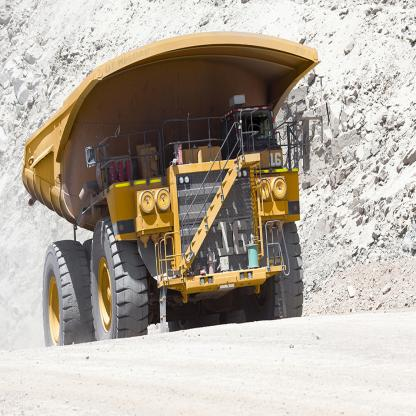dump_truck: (24, 29, 311, 322)
